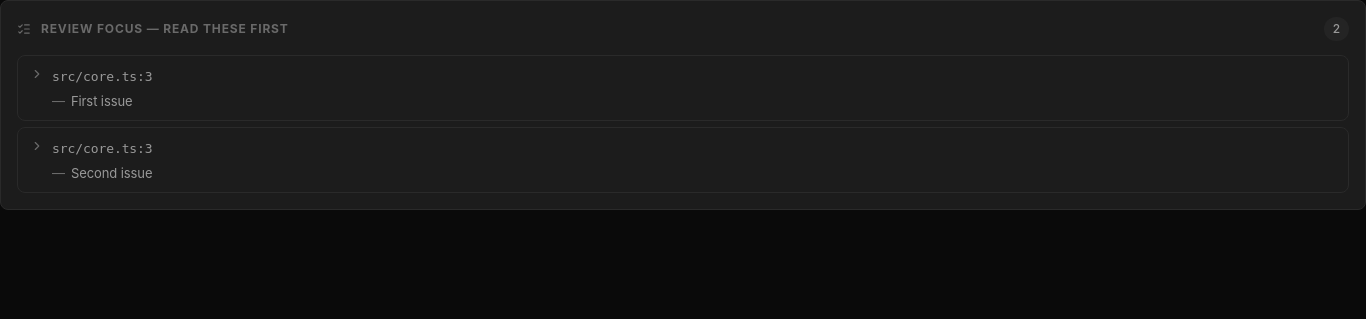
Test: ReviewFocusList › expands two rows independently — expanding a second row does not collapse the first
The image size is (1366, 319).
Click the text "First issue" at [102, 101], box [71, 92, 132, 111]
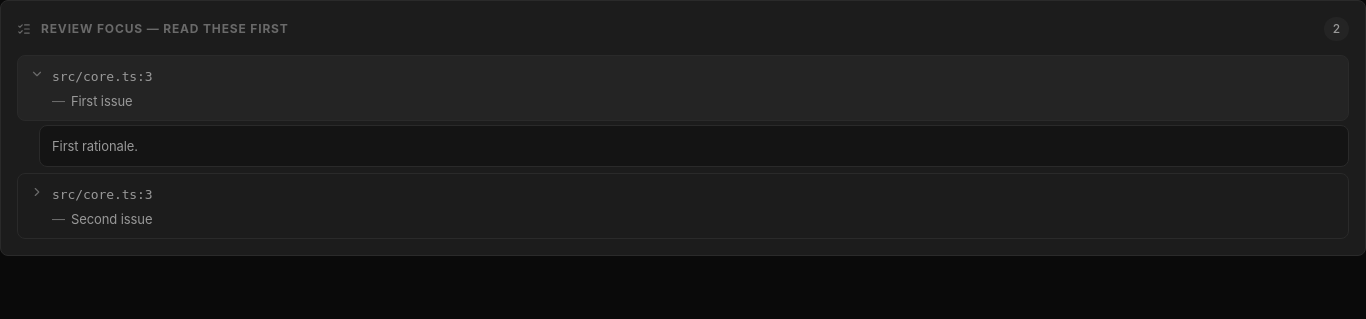
Click the text "Second issue" at [112, 219], box [71, 210, 152, 229]
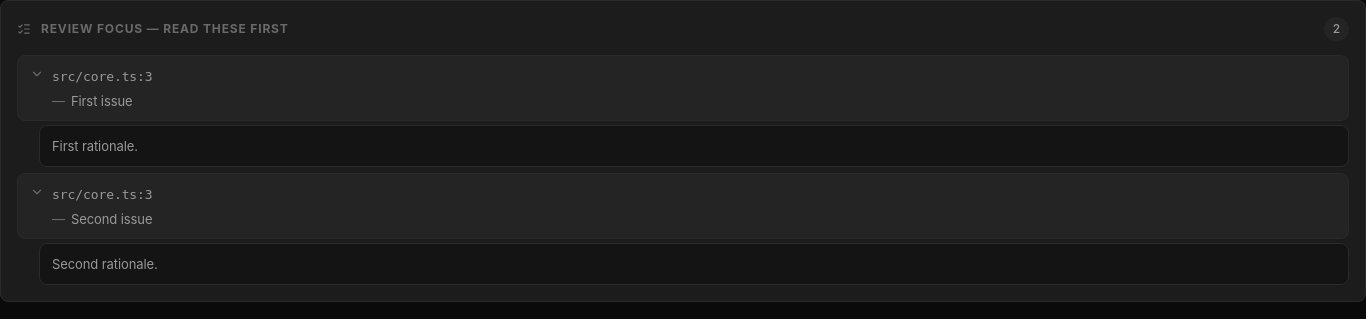
Check: the text "First rationale." is shown, box [52, 138, 138, 154]
Check: the text "Second rationale." is shown, box [52, 256, 158, 272]
